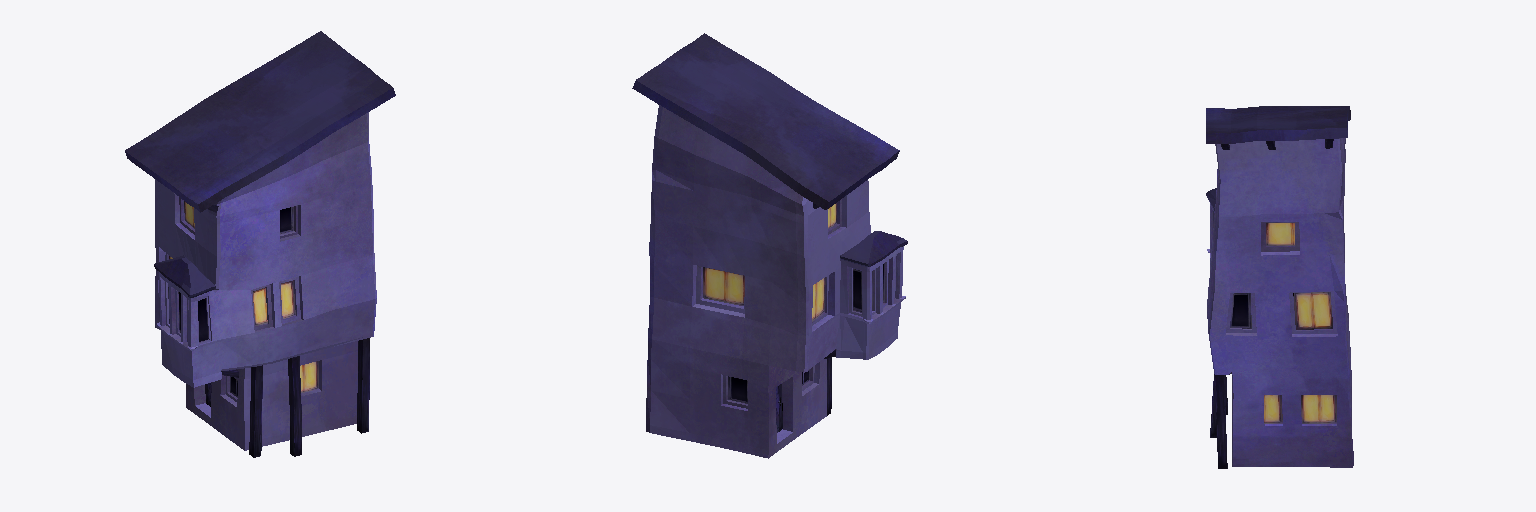
The picture shows the model from 3 angles: view 1: azimuth 30°, elevation 25°; view 2: azimuth 150°, elevation 25°; view 3: azimuth 270°, elevation 25°; orthographic projection.
Visible parts, largest first — view 1: Cube; view 2: Cube; view 3: Cube.
Boxes of the visible parts, x1=… form: Cube: x1=125, y1=31, x2=395, y2=457; Cube: x1=632, y1=33, x2=907, y2=458; Cube: x1=1206, y1=106, x2=1353, y2=468.
Size of the model in its own units: 15.54 by 25.39 by 9.65.
Materials: 3 (3 with a texture image).